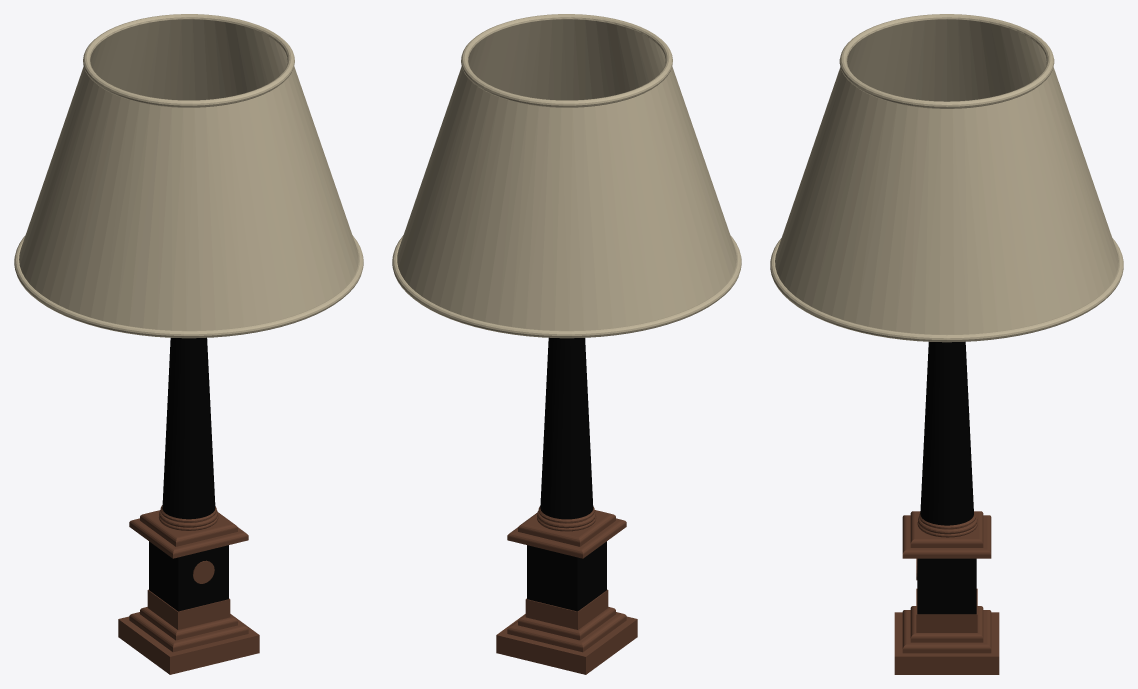
3 renders of one model, left to right at view 1: azimuth 30°, elevation 25°; view 2: azimuth 150°, elevation 25°; view 3: azimuth 270°, elevation 25°, orthographic.
Visible parts, largest first — view 1: shade, black (×2), brass (×7); view 2: shade, black (×2), brass (×7); view 3: shade, black (×2), brass (×7).
Boxes of the visible parts, left/top/right/bottom form: shade: left=14, top=14, right=363, bottom=338; black (×2): left=149, top=337, right=228, bottom=611; brass (×7): left=118, top=505, right=259, bottom=674; shade: left=392, top=14, right=741, bottom=338; black (×2): left=527, top=337, right=606, bottom=611; brass (×7): left=496, top=506, right=637, bottom=674; shade: left=770, top=14, right=1123, bottom=342; black (×2): left=917, top=341, right=976, bottom=614; brass (×7): left=894, top=511, right=999, bottom=674.
Size of the model in its own units: 7.78 by 7.77 by 14.43.
